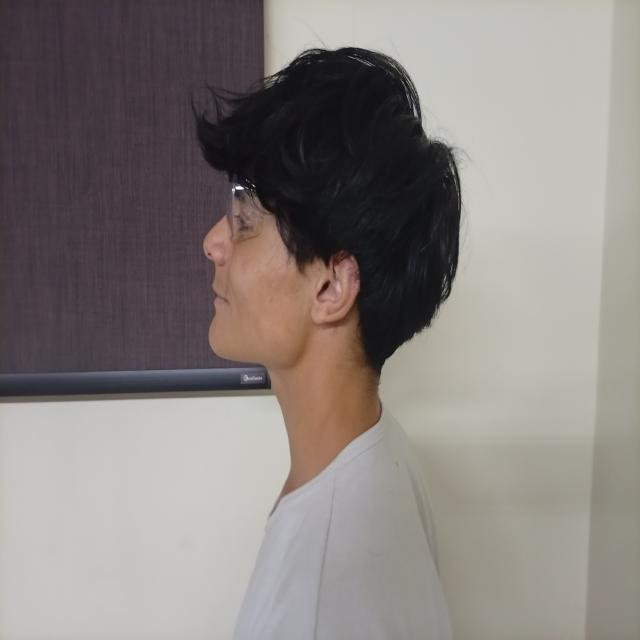oculos-epi: (226, 174, 261, 236)
